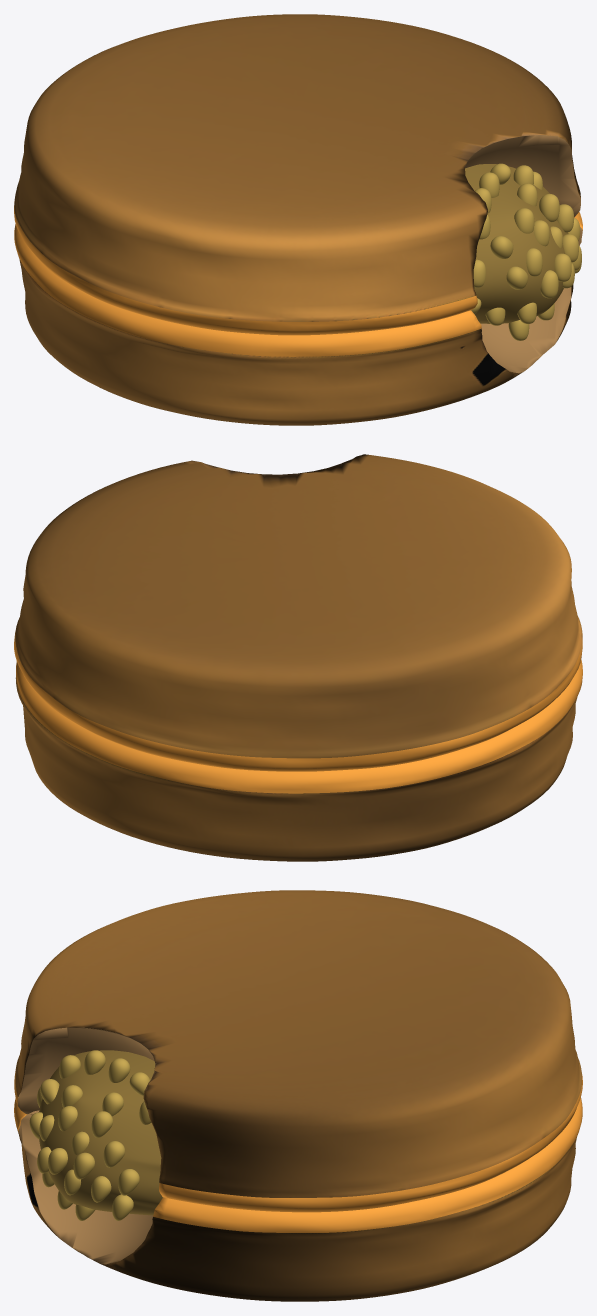
Rendered from nado.glb.
3 views of the same model, one above another, from view 1: azimuth 30°, elevation 25°; view 2: azimuth 150°, elevation 25°; view 3: azimuth 270°, elevation 25° (orthographic).
Parts seen in each view (by area): view 1: Cylinder, Mball.002; view 2: Cylinder; view 3: Cylinder, Mball.002.
Part boxes in pixels (x1=…): Cylinder: x1=14, y1=14, x2=582, y2=425; Mball.002: x1=465, y1=164, x2=568, y2=323; Cylinder: x1=14, y1=454, x2=582, y2=861; Cylinder: x1=14, y1=890, x2=582, y2=1301; Mball.002: x1=39, y1=1050, x2=162, y2=1215.
Size of the model in its own units: 2.07 by 0.8121 by 2.08.
5 materials, 1 textured.
